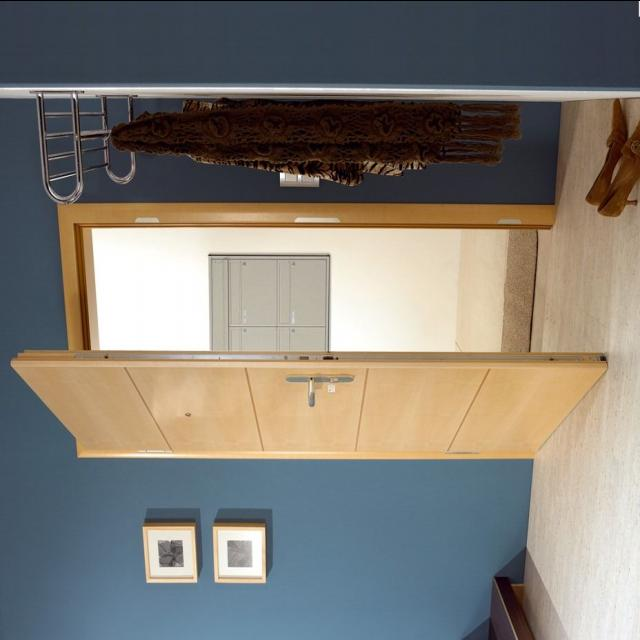open: (59, 200, 588, 469)
